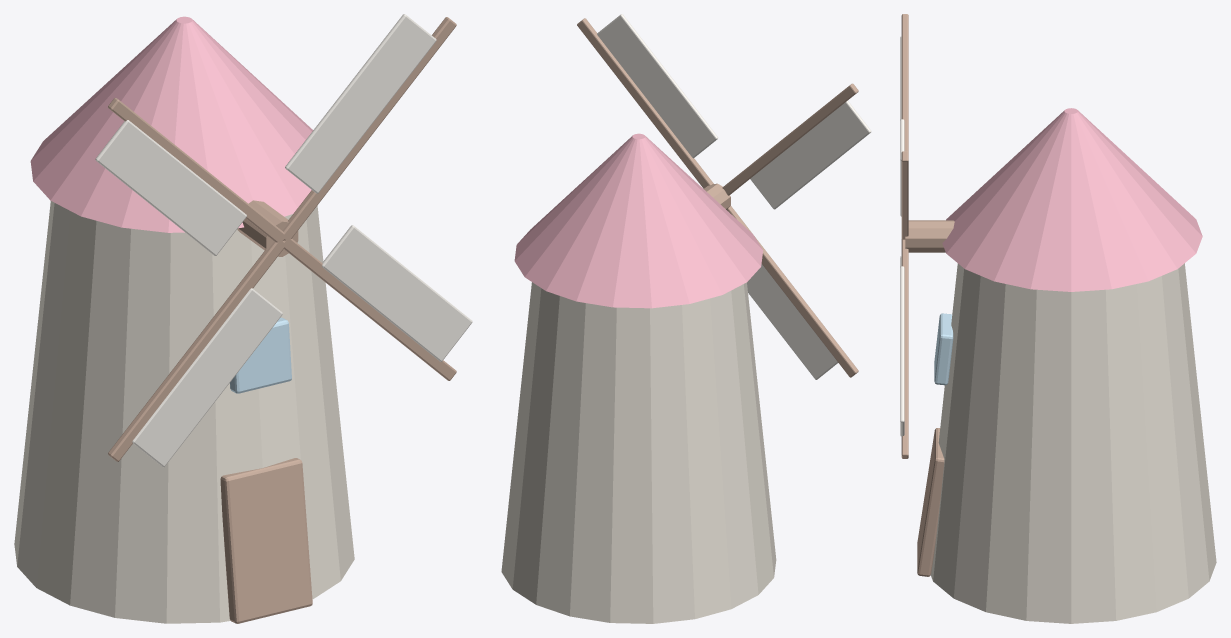
File: mlyn.glb
3 views of the same model, side by side, from view 1: azimuth 30°, elevation 25°; view 2: azimuth 150°, elevation 25°; view 3: azimuth 270°, elevation 25° (orthographic). The views are drawn at different scales.
Visible parts, largest first — view 1: Cone, Cone.001, Cube, Cube.003, Cube.005, Cube.009, Cube.007, Cube.006, Cube.001, Cube.002, Cube.004, Cube.008 (+1 smaller); view 2: Cone, Cone.001, Cube.003, Cube.005, Cube.007, Cube.002, Cube.006, Cube.004; view 3: Cone, Cone.001, Cube, Cylinder, Cube.008, Cube.001, Cube.004, Cube.009, Cube.002.
Boxes of the visible parts, x1=… form: Cone: x1=14, y1=201, x2=354, y2=623; Cone.001: x1=30, y1=16, x2=313, y2=232; Cube: x1=220, y1=458, x2=312, y2=623; Cube.003: x1=285, y1=14, x2=436, y2=193; Cube.005: x1=95, y1=120, x2=246, y2=255; Cube.009: x1=322, y1=225, x2=472, y2=361; Cube.007: x1=132, y1=288, x2=282, y2=466; Cube.006: x1=108, y1=240, x2=286, y2=461; Cube.001: x1=229, y1=317, x2=291, y2=393; Cube.002: x1=282, y1=17, x2=456, y2=241; Cube.004: x1=108, y1=98, x2=285, y2=243; Cube.008: x1=283, y1=238, x2=456, y2=380; Cone: x1=501, y1=282, x2=776, y2=623; Cone.001: x1=514, y1=133, x2=763, y2=308; Cube.003: x1=597, y1=14, x2=718, y2=158; Cube.005: x1=750, y1=100, x2=871, y2=209; Cube.007: x1=747, y1=264, x2=838, y2=379; Cube.002: x1=577, y1=18, x2=713, y2=188; Cube.006: x1=727, y1=206, x2=858, y2=377; Cube.004: x1=722, y1=83, x2=858, y2=195; Cone: x1=930, y1=263, x2=1216, y2=623; Cone.001: x1=942, y1=108, x2=1202, y2=291; Cube: x1=917, y1=428, x2=944, y2=576; Cylinder: x1=905, y1=220, x2=954, y2=252; Cube.008: x1=901, y1=239, x2=908, y2=458; Cube.001: x1=934, y1=313, x2=953, y2=385; Cube.004: x1=901, y1=14, x2=908, y2=151; Cube.009: x1=900, y1=266, x2=904, y2=436; Cube.002: x1=901, y1=151, x2=908, y2=239.
Size of the model in its own units: 2.66 by 3.93 by 2.28.
